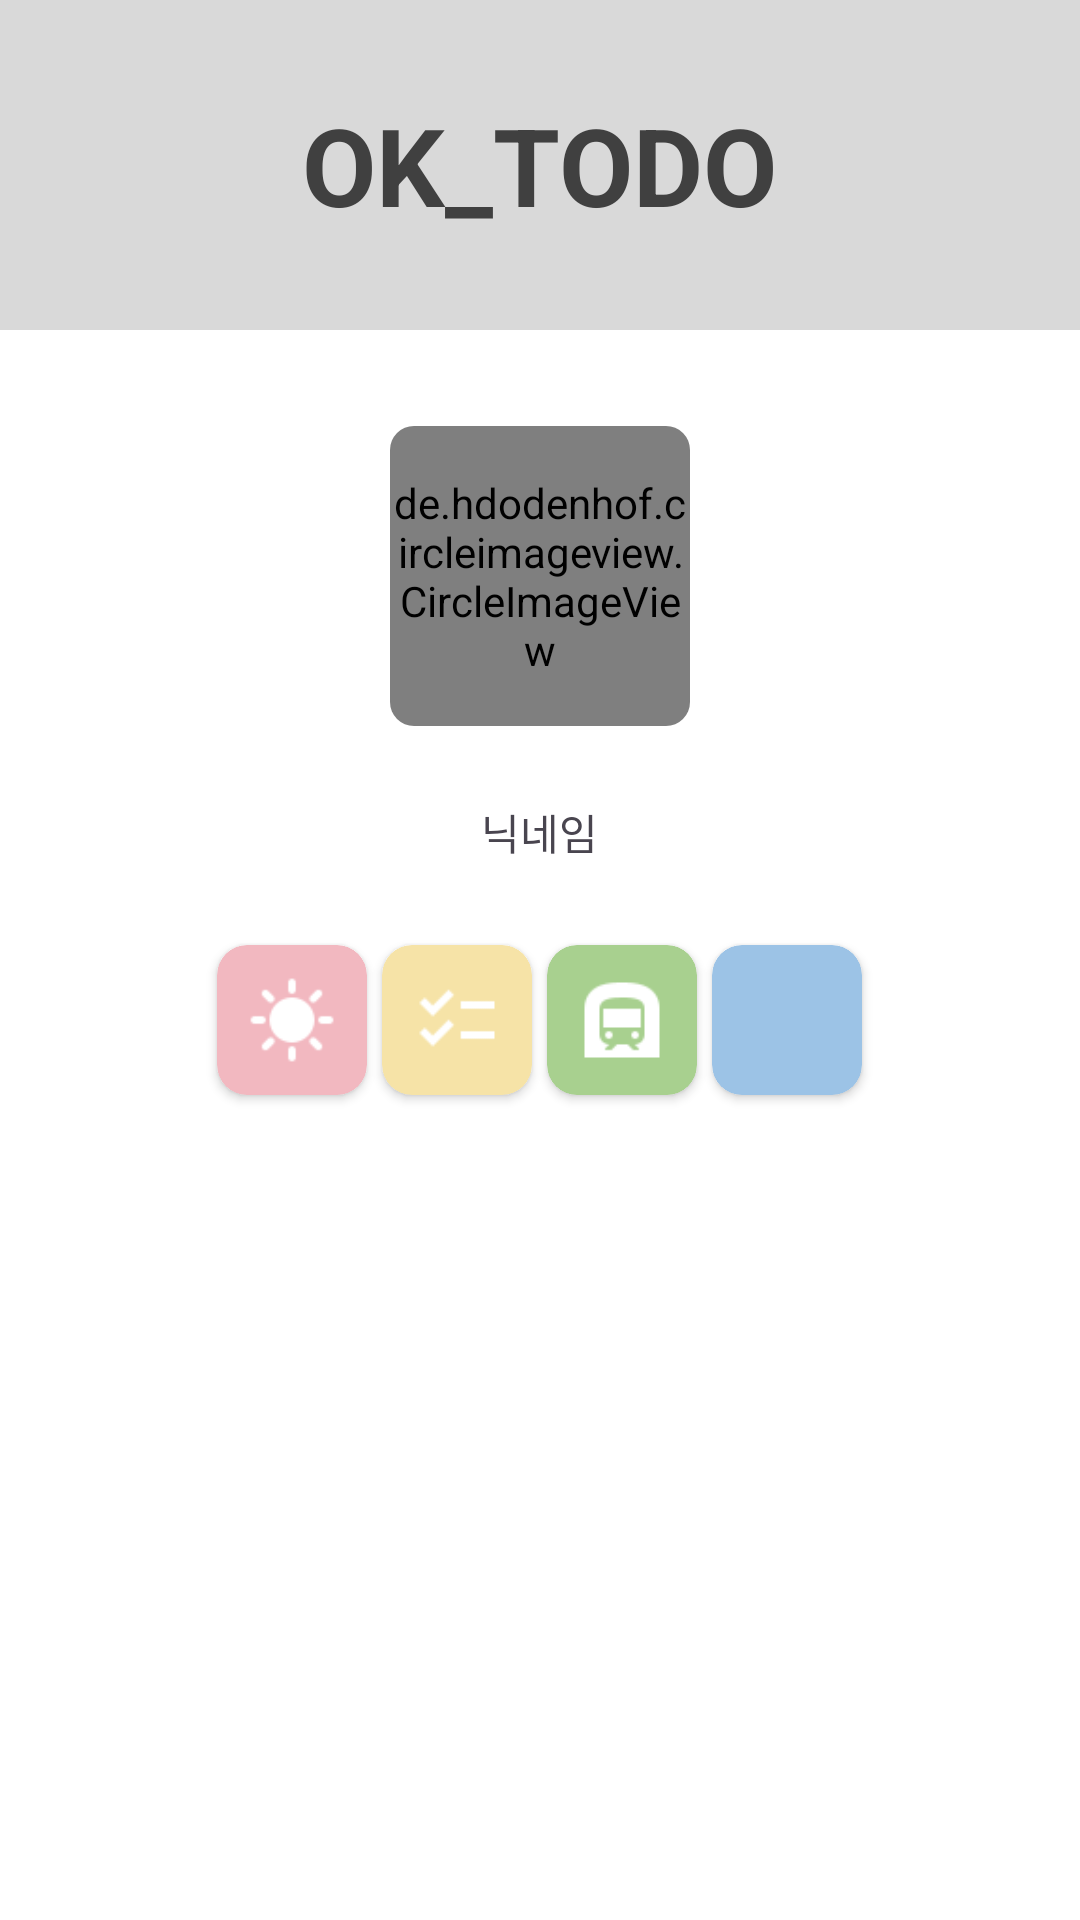

Screen size 1080x1920. Icon name, then its center in pixels as [x,y]:
sub: [622,1020]
sunny: [292,1020]
todo: [457,1018]
